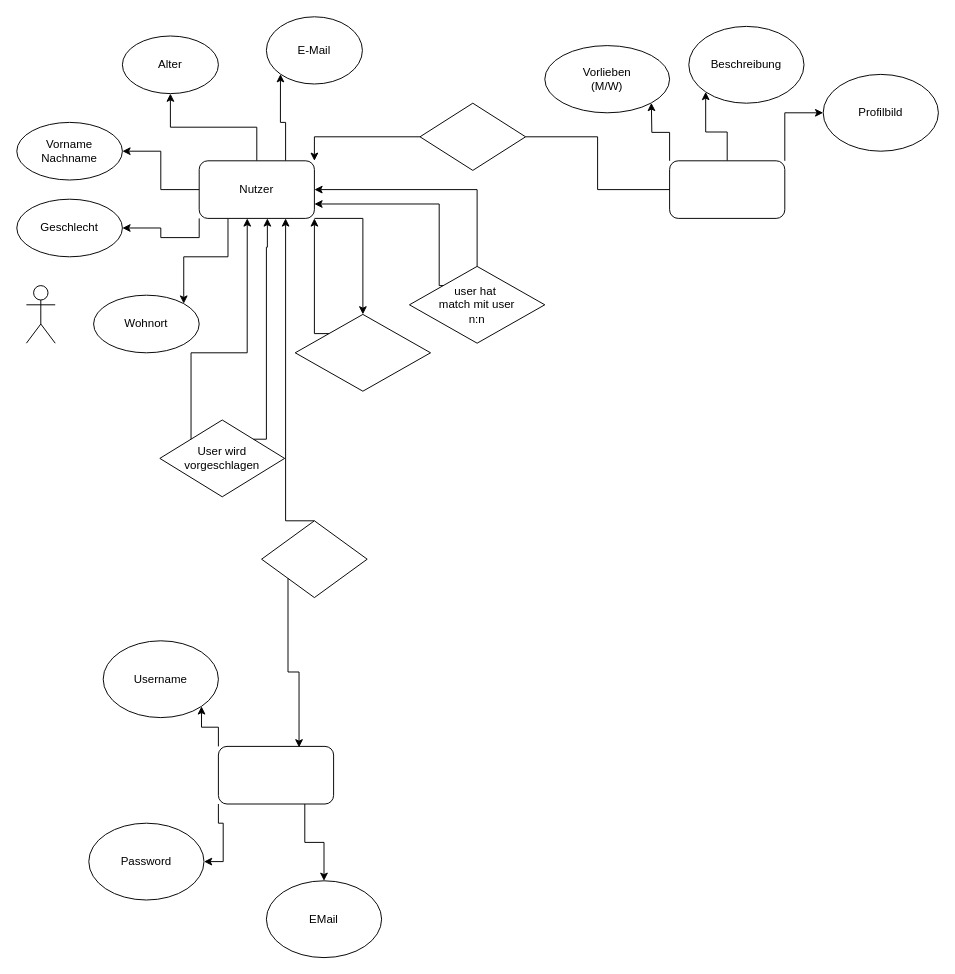
Some shapes in this 955 by 974 pixel diagram are drawn without their labels. Each missing label, with the centre of its shape:
Bob: pixel 40 314
hal login 1:1: pixel 314 559
hat profil 1:1: pixel 472 136
Login: pixel 275 774
Profil: pixel 727 189
user mag user n:n: pixel 362 352
